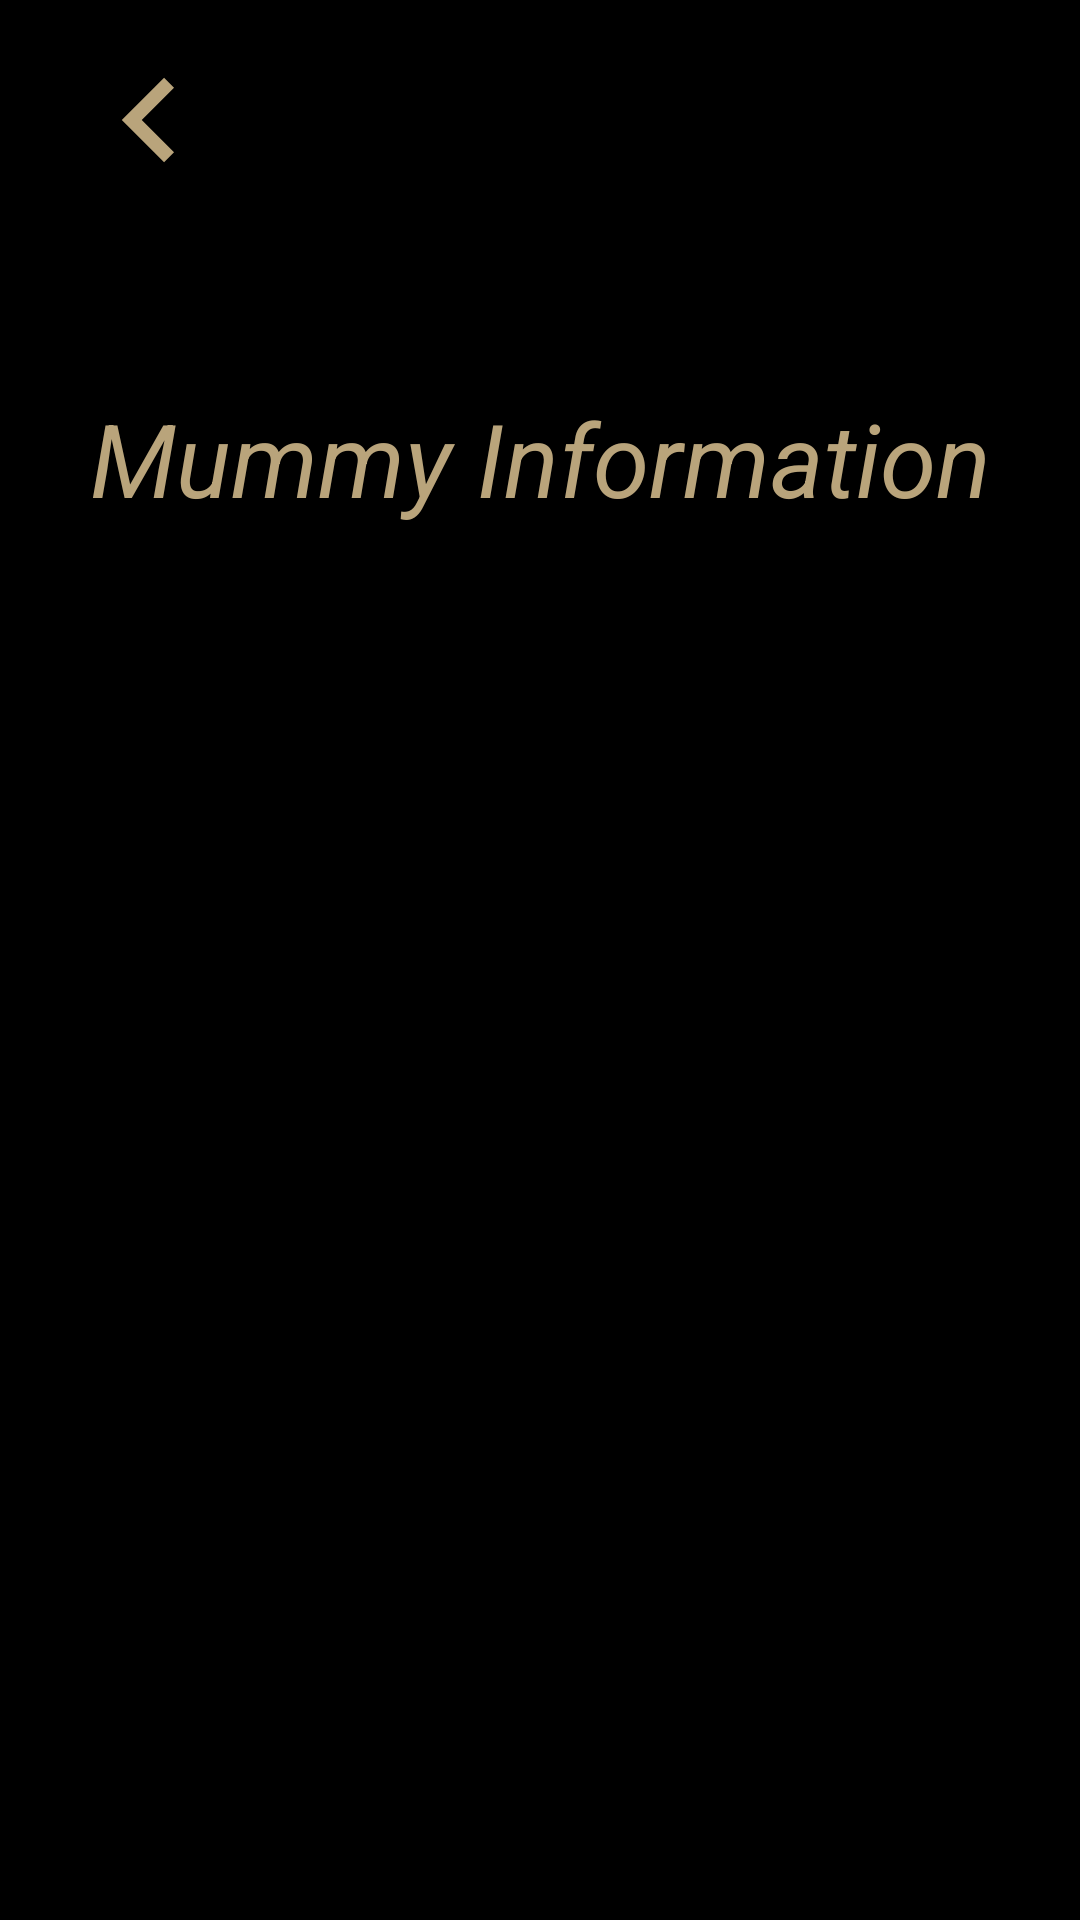

Icon click points for this 1080px x 1920px phone screenshot, format (x,y):
back: (148,120)
